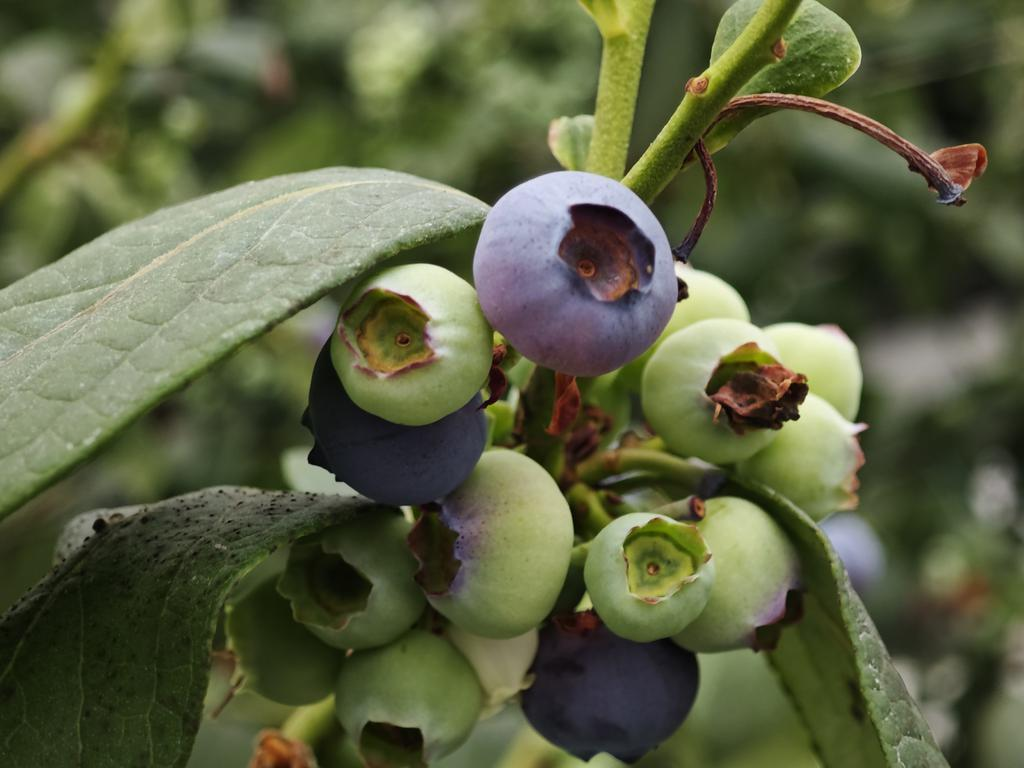Semi-RipeBlueBerry: (447, 147, 694, 380)
UnripeBlueBerry: (409, 442, 588, 642), (324, 258, 510, 431), (650, 313, 807, 469), (559, 514, 719, 651)
